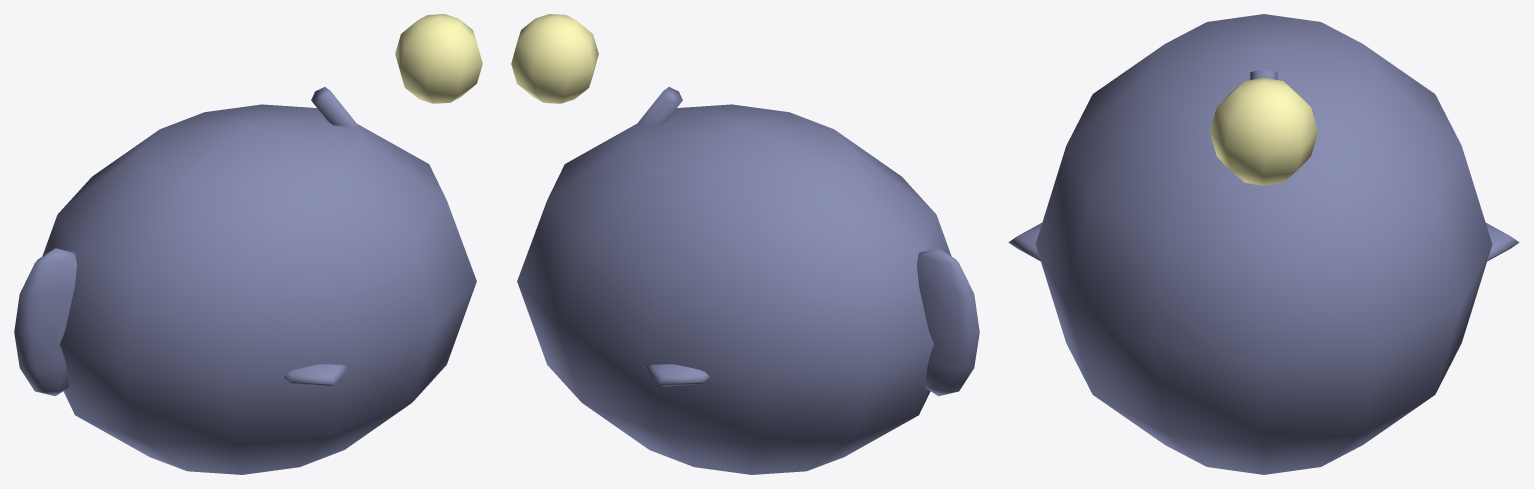
Rendered from angler.glb.
3 renders of one model, left to right at view 1: azimuth 30°, elevation 25°; view 2: azimuth 150°, elevation 25°; view 3: azimuth 270°, elevation 25°, orthographic. The views are drawn at different scales.
Parts seen in each view (by area): view 1: body, tail, lamp, fin_-1, stalk; view 2: body, tail, lamp, fin_1, stalk; view 3: body, lamp, fin_-1, fin_1.
Part boxes in pixels (left/top/right/bottom): body: left=42, top=104, right=476, bottom=474; tail: left=14, top=248, right=76, bottom=396; lamp: left=395, top=14, right=482, bottom=103; fin_-1: left=284, top=364, right=350, bottom=386; stalk: left=311, top=87, right=358, bottom=127; body: left=517, top=104, right=951, bottom=474; tail: left=917, top=248, right=979, bottom=396; lamp: left=511, top=14, right=598, bottom=103; fin_1: left=643, top=364, right=709, bottom=386; stalk: left=635, top=87, right=682, bottom=127; body: left=1035, top=14, right=1492, bottom=474; lamp: left=1209, top=77, right=1318, bottom=185; fin_-1: left=1008, top=223, right=1041, bottom=261; fin_1: left=1486, top=223, right=1519, bottom=261.
Bounding box in the file's own units: 1.49 × 1.2 × 1.19.
